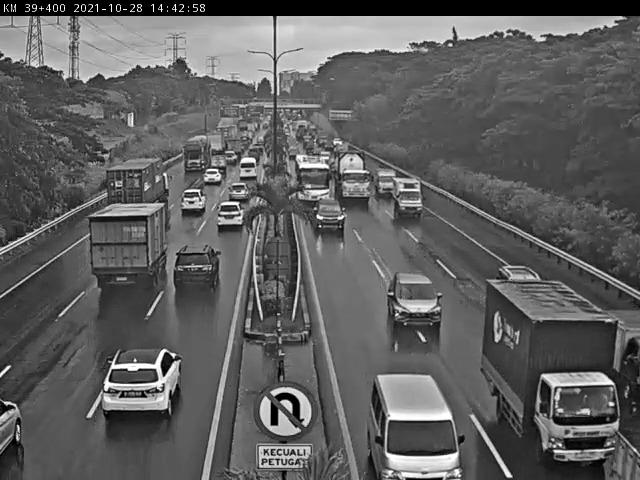big bus: (296, 156, 335, 211)
big truck: (88, 202, 171, 289), (107, 157, 172, 218), (334, 149, 377, 209)
car: (368, 371, 466, 480), (101, 347, 182, 417), (388, 271, 444, 336), (495, 266, 553, 314), (174, 244, 223, 292), (314, 200, 346, 238), (217, 199, 246, 231), (181, 187, 208, 215), (228, 179, 247, 198), (203, 168, 222, 185)
small truck: (480, 278, 621, 467), (396, 178, 427, 221), (378, 170, 401, 203)
